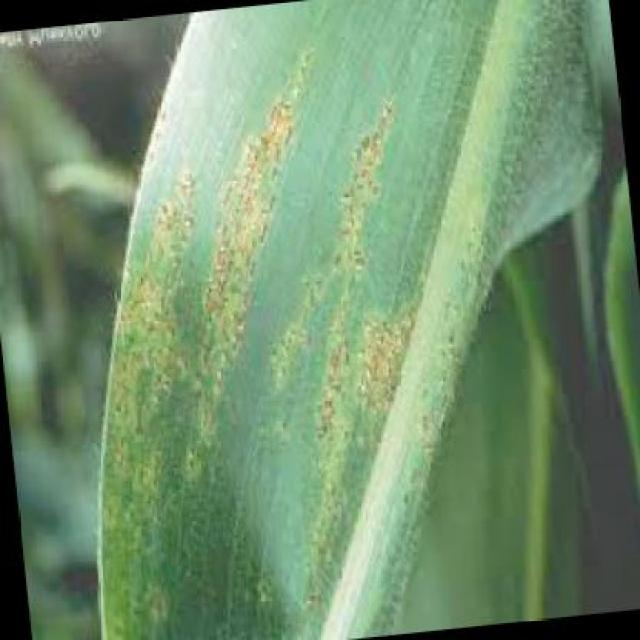Corn_Rust: (83, 31, 455, 523)
